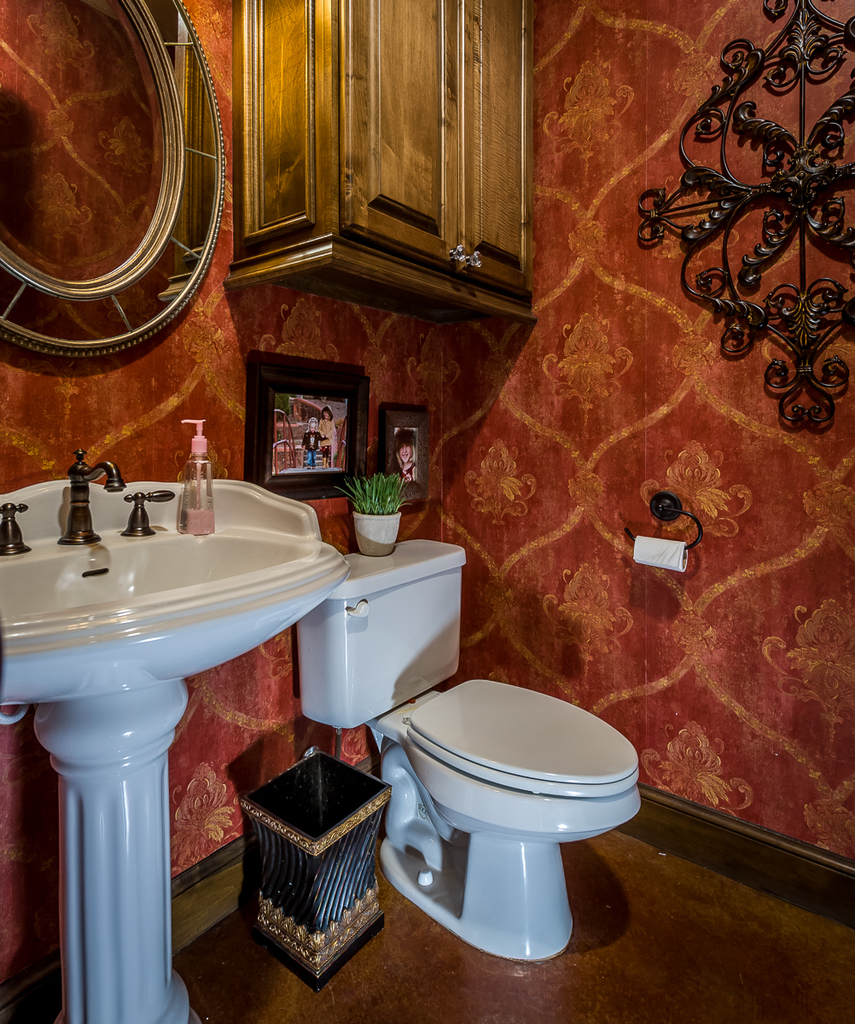tap: (58, 447, 125, 544), (114, 489, 173, 535)
